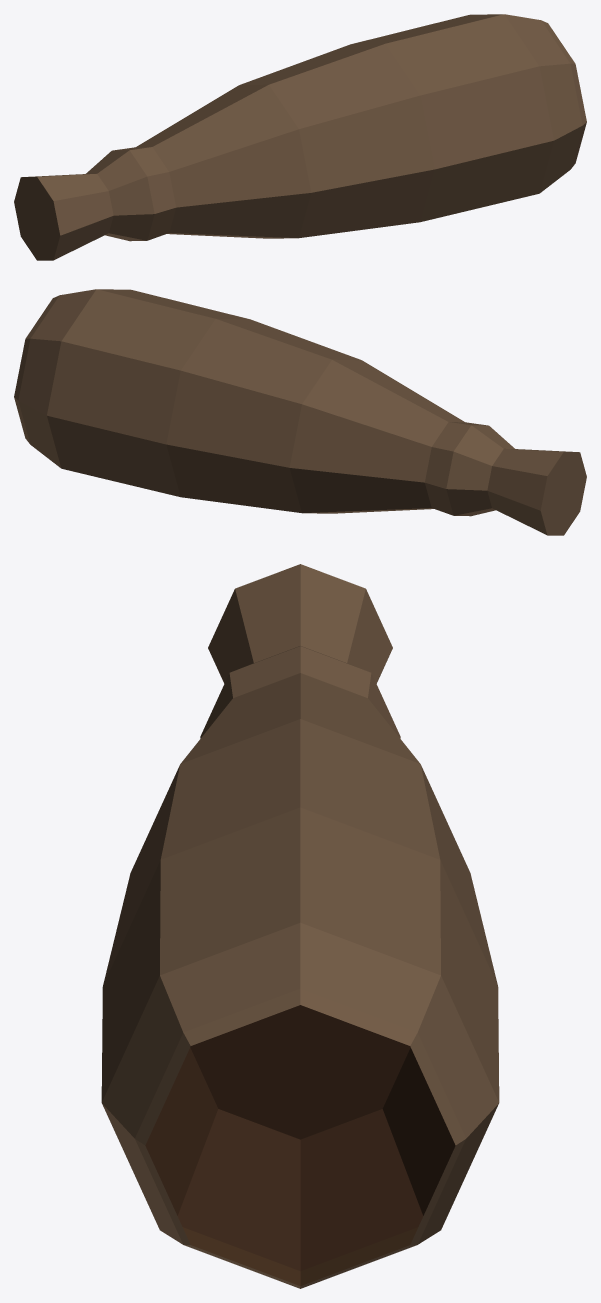
The model's file is Tribal_Plains_Fishing_Trap_Woven_01.fbx.
3 views of the same model, one above another, from view 1: azimuth 30°, elevation 25°; view 2: azimuth 150°, elevation 25°; view 3: azimuth 270°, elevation 25° (orthographic). The views are drawn at different scales.
Parts seen in each view (by area): view 1: Tribal_Plains_Fishing_Trap_Woven_01; view 2: Tribal_Plains_Fishing_Trap_Woven_01; view 3: Tribal_Plains_Fishing_Trap_Woven_01.
Boxes of the visible parts, x1,y1,x2,y2 form: Tribal_Plains_Fishing_Trap_Woven_01: (14, 14, 586, 260); Tribal_Plains_Fishing_Trap_Woven_01: (14, 289, 586, 535); Tribal_Plains_Fishing_Trap_Woven_01: (101, 564, 499, 1288).
Bounding box in the file's own units: 1.58 × 0.5328 × 0.5328.
